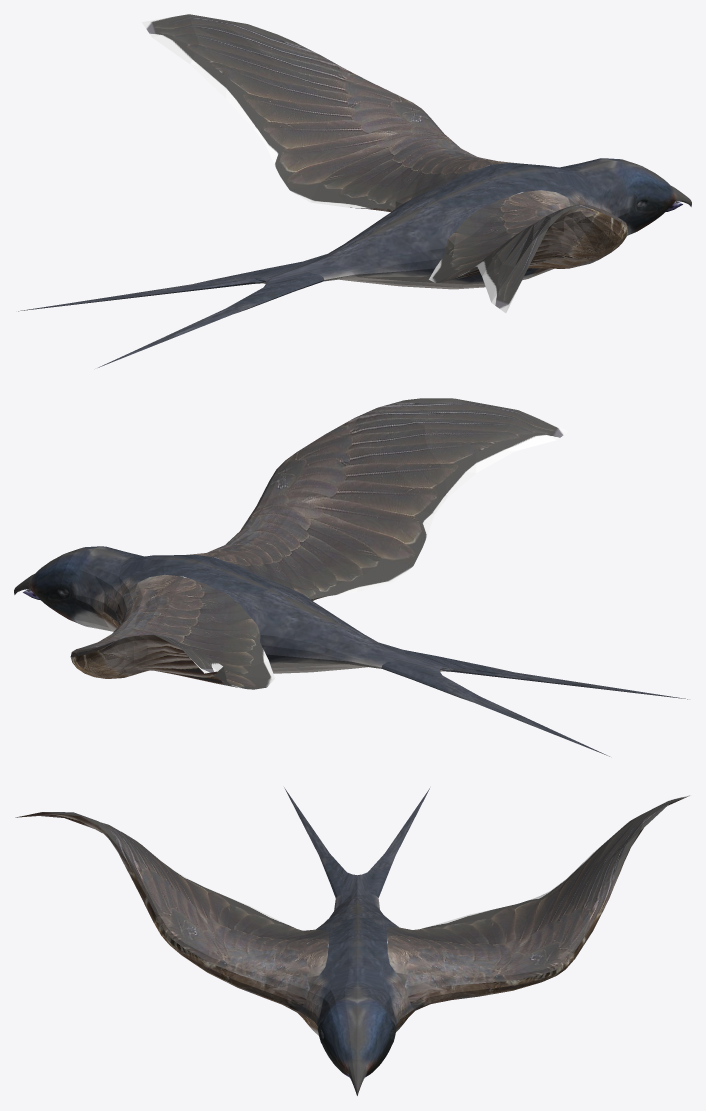
Rendered from smallbird.obj.
The picture shows the model from 3 angles, top to bottom: view 1: azimuth 30°, elevation 25°; view 2: azimuth 150°, elevation 25°; view 3: azimuth 270°, elevation 25°; orthographic projection. The views are drawn at different scales.
Parts seen in each view (by area): view 1: polySurfac; view 2: polySurfac; view 3: polySurfac.
Part boxes in pixels (<box>): polySurfac: <box>18,14,691,367</box>; polySurfac: <box>14,398,687,756</box>; polySurfac: <box>15,787,690,1095</box>.
Bounding box in the file's own units: 2.18 × 0.5947 × 2.16.
1 material, 1 textured.
